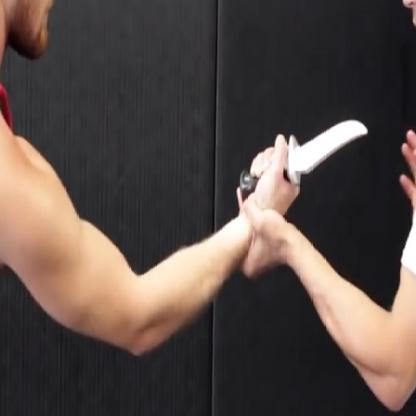knife: (230, 101, 378, 206)
